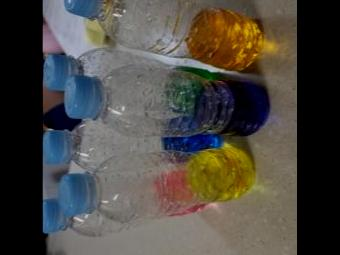bottle: (65, 60, 270, 140), (61, 142, 254, 222), (64, 0, 262, 61), (44, 118, 218, 168), (44, 37, 133, 91), (42, 195, 128, 244)
